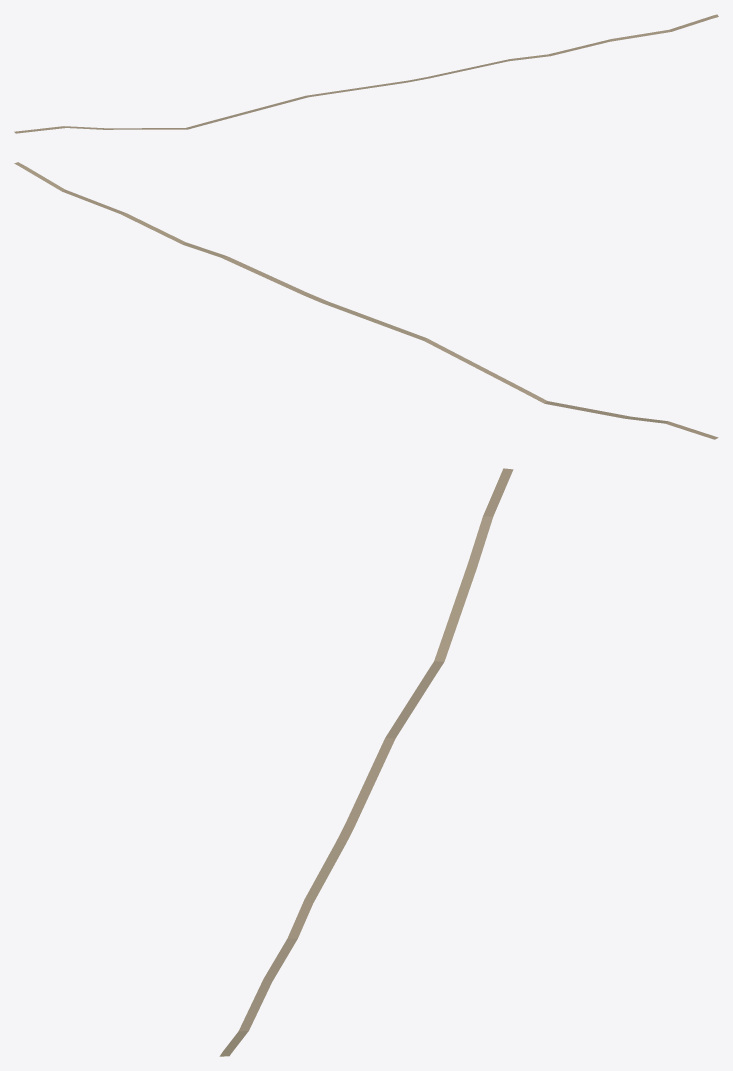
Rendered from farm_-22_-26_track.glb.
3 renders of one model, top to bottom at view 1: azimuth 30°, elevation 25°; view 2: azimuth 150°, elevation 25°; view 3: azimuth 270°, elevation 25°, orthographic. The views are drawn at different scales.
Visible parts, largest first — view 1: geometry_0; view 2: geometry_0; view 3: geometry_0.
Part boxes in pixels (box(x1,y1,x2,y2)): geometry_0: box(14, 14, 718, 133); geometry_0: box(14, 162, 718, 439); geometry_0: box(219, 468, 513, 1056).
Size of the model in its own units: 465 by 25.54 by 93.63.
